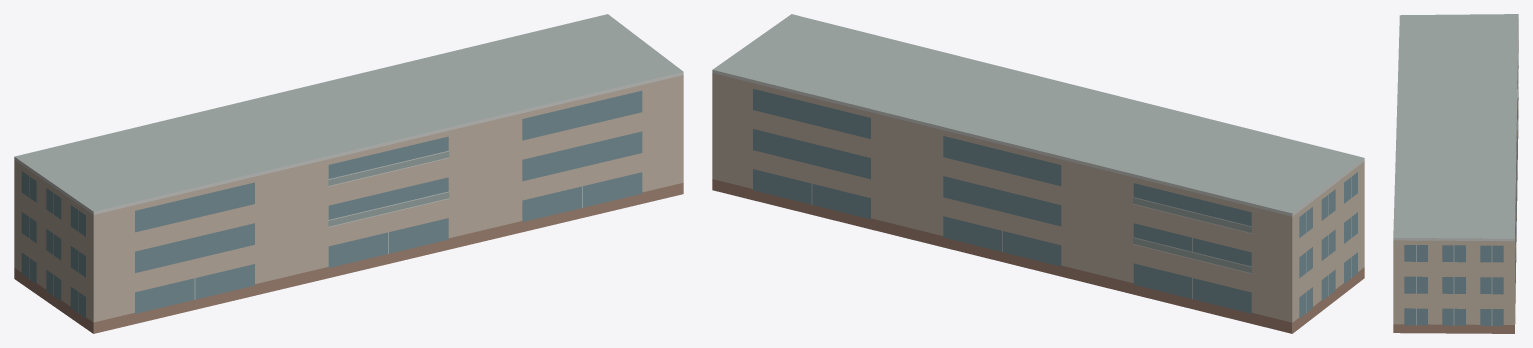
The model's file is survey-upis-32628796.glb.
3 views of the same model, side by side, from view 1: azimuth 30°, elevation 25°; view 2: azimuth 150°, elevation 25°; view 3: azimuth 270°, elevation 25° (orthographic). The views are drawn at different scales.
Parts seen in each view (by area): view 1: survey-upis-32628796.tmp; view 2: survey-upis-32628796.tmp; view 3: survey-upis-32628796.tmp.
Part boxes in pixels (box(x1,y1,x2,y2)): survey-upis-32628796.tmp: box(14, 14, 683, 333); survey-upis-32628796.tmp: box(712, 14, 1364, 333); survey-upis-32628796.tmp: box(1393, 14, 1518, 333).
Bounding box in the file's own units: 46.31 × 9.15 × 10.93.
